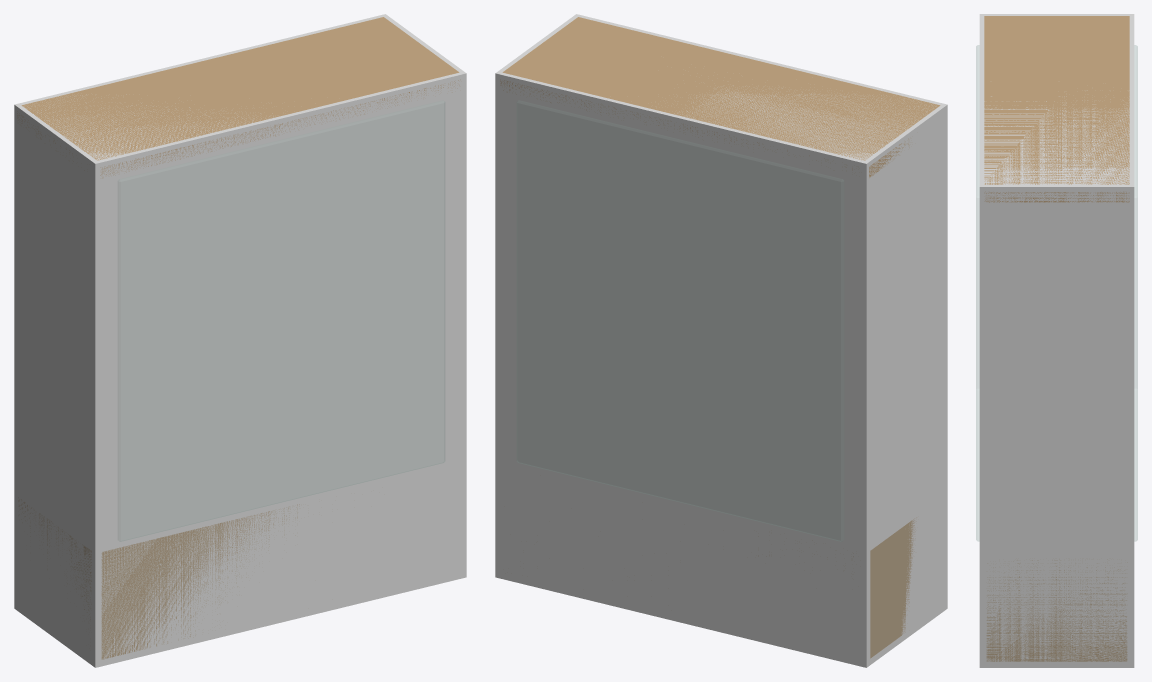
File: standard.glb
3 views of the same model, side by side, from view 1: azimuth 30°, elevation 25°; view 2: azimuth 150°, elevation 25°; view 3: azimuth 270°, elevation 25° (orthographic). The views are drawn at different scales.
Visible parts, largest first — view 1: COL_GLASS_SHOWCASES_STANDARD, Showcase_Cap.001, Showcase_Plinth.001, Showcase_GlassBack.001; view 2: COL_GLASS_SHOWCASES_STANDARD, Showcase_Cap.001, Showcase_Plinth.001, Showcase_GlassFront.001; view 3: COL_GLASS_SHOWCASES_STANDARD, Showcase_Cap.001, Showcase_Plinth.001, Showcase_GlassBack.001, Showcase_GlassFront.001.
Part boxes in pixels (x1,y1,x2,y2): COL_GLASS_SHOWCASES_STANDARD: (14, 14, 466, 667); Showcase_Cap.001: (17, 17, 460, 178); Showcase_Plinth.001: (18, 497, 299, 659); Showcase_GlassBack.001: (120, 102, 444, 541); COL_GLASS_SHOWCASES_STANDARD: (495, 14, 947, 667); Showcase_Cap.001: (500, 17, 940, 177); Showcase_Plinth.001: (758, 517, 916, 658); Showcase_GlassFront.001: (517, 102, 841, 541); COL_GLASS_SHOWCASES_STANDARD: (979, 14, 1134, 667); Showcase_Cap.001: (984, 16, 1129, 202); Showcase_Plinth.001: (986, 559, 1127, 661); Showcase_GlassBack.001: (976, 45, 979, 541); Showcase_GlassFront.001: (1134, 45, 1137, 541).
Bounding box in the file's own units: 1.48 × 1.92 × 0.585.
